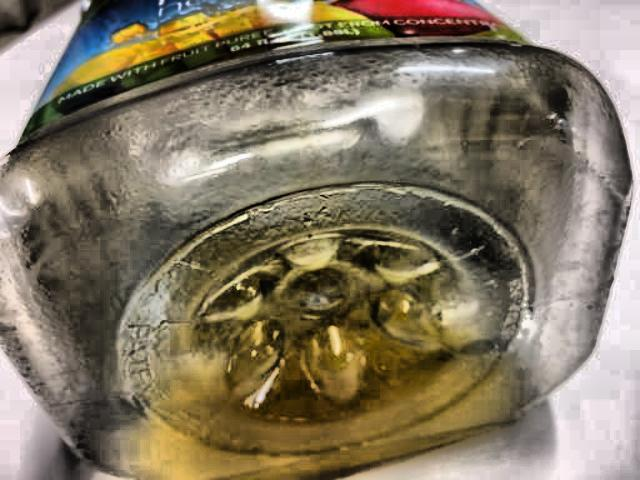Plastic: (0, 5, 624, 480)
